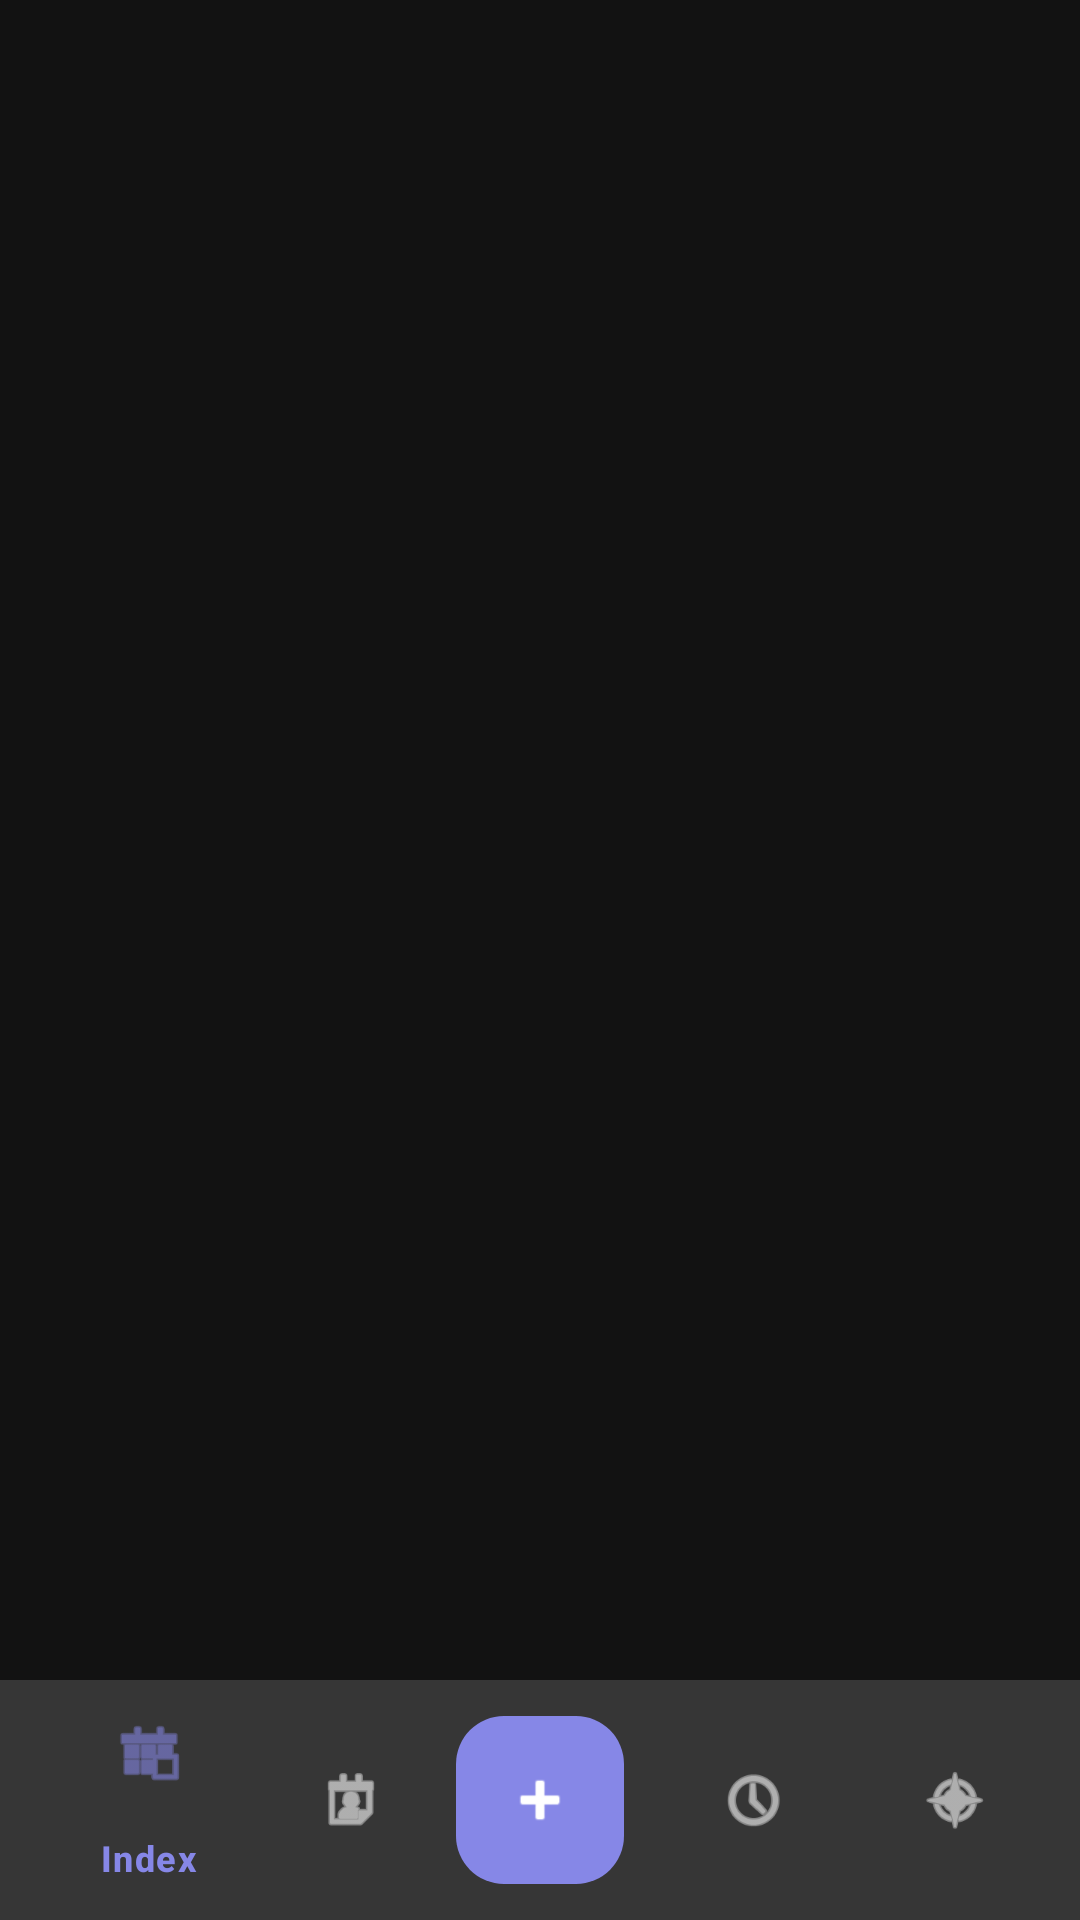

Icons on this 1080*1920 Android screen, each with the point to tap as point (x, y):
Add Task: point (540, 1818)
